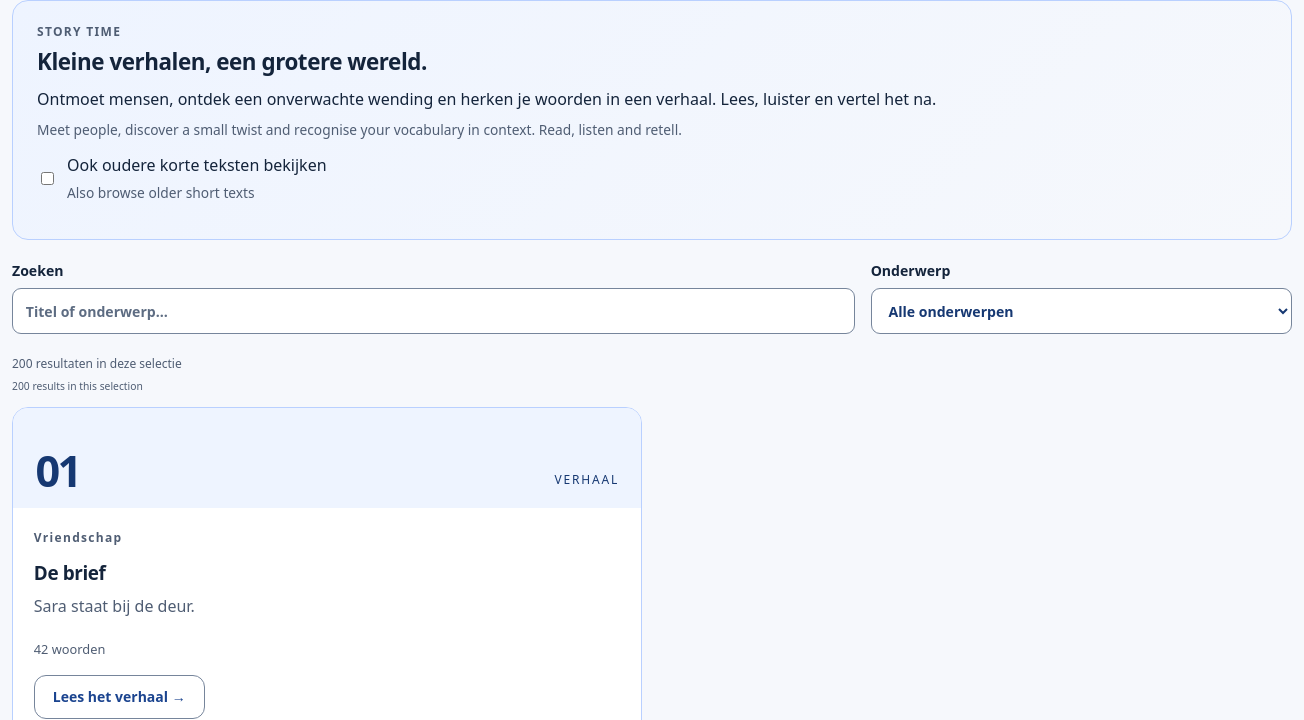
Scenario: authored lines stay explicit with individual audio and optional translation
The image size is (1304, 720).
Step 1. Click the button with aria-label "Lees De brief" → (119, 697), box x1=34 y1=675 x2=205 y2=719
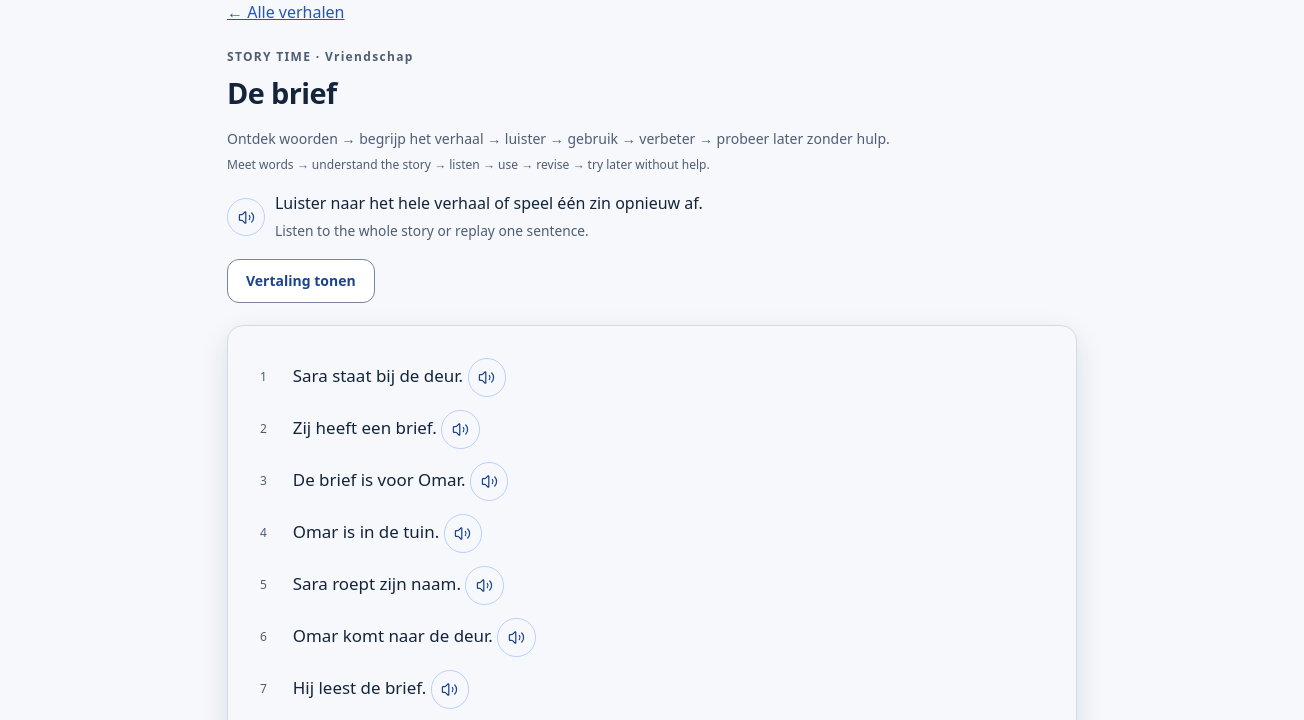
Expected: the number of list items is 8
Step 2. Click the button "Vertaling tonen" → (301, 281), box x1=227 y1=259 x2=375 y2=303
(page scrolled)
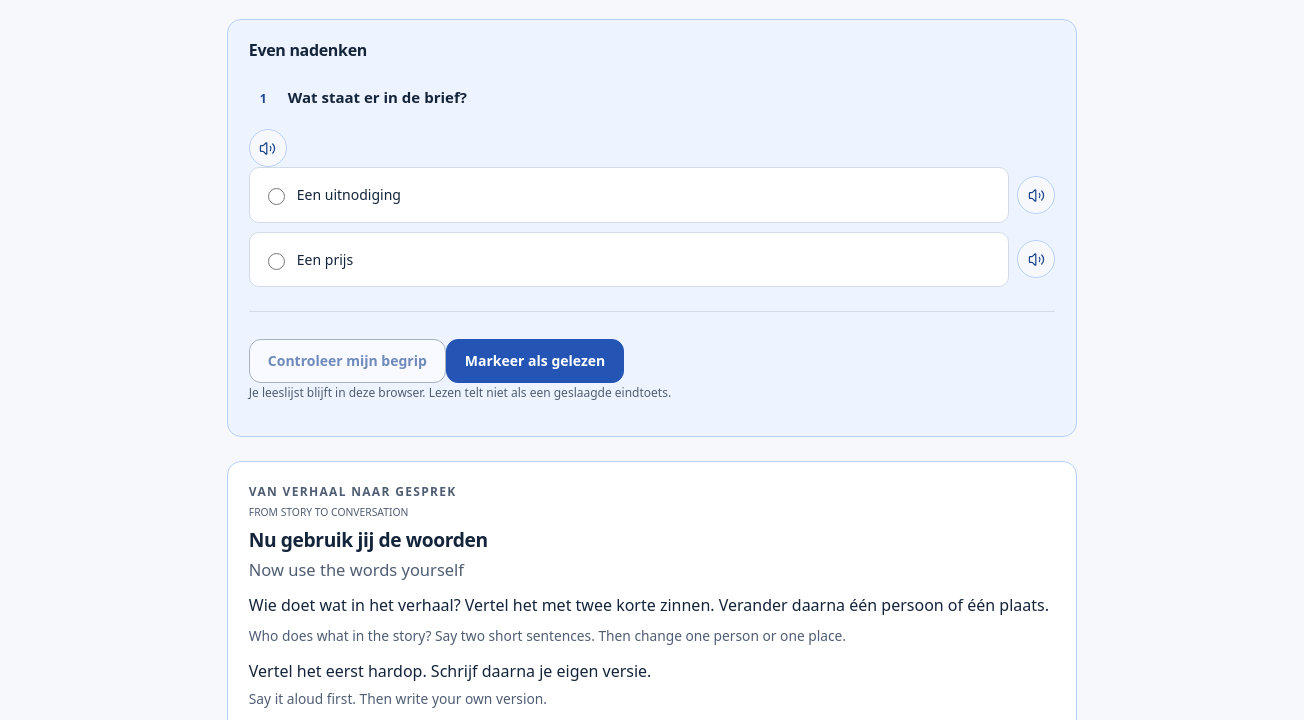
Step 3. Click the button "Markeer als gelezen" → (535, 361), box x1=446 y1=339 x2=624 y2=383
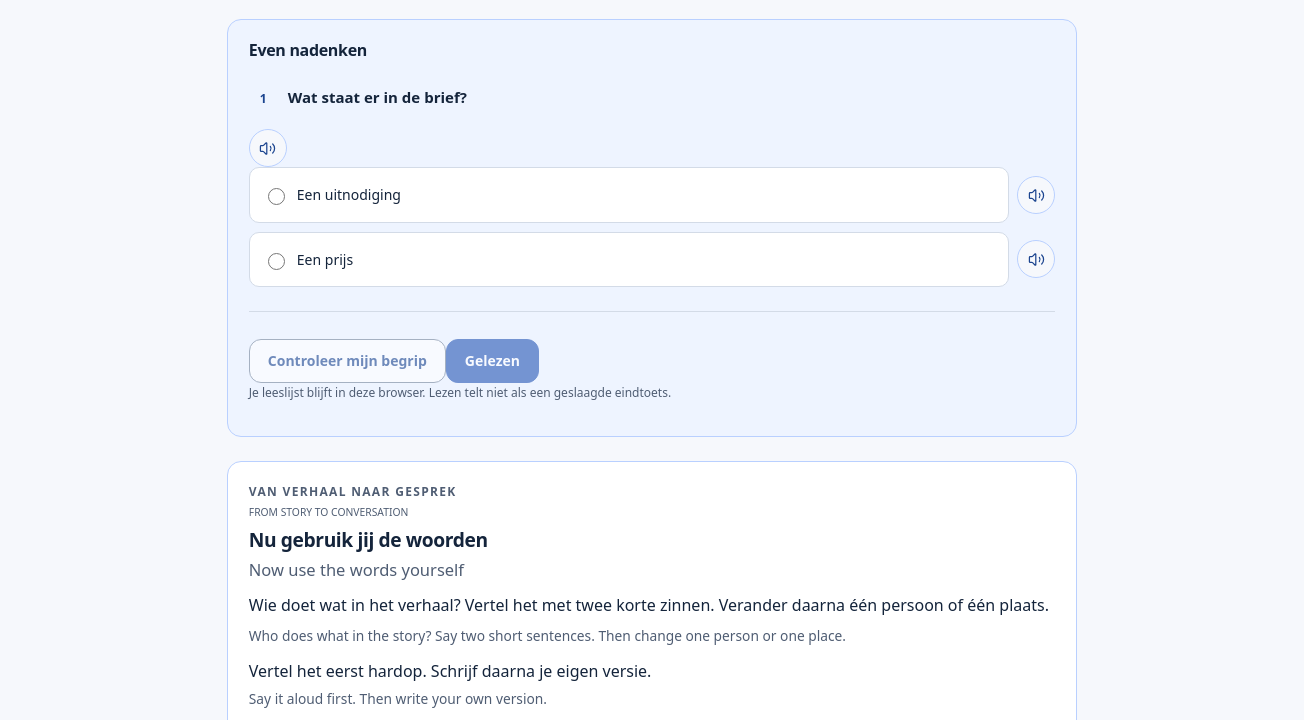
Expected: the button "Gelezen" is disabled, x1=446 y1=339 x2=539 y2=383
